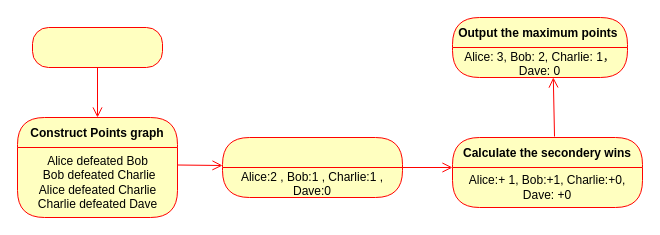
Some shapes in this 660 by 235 pixel diagram are drawn without their labels. The shapes that lost their labels are listed below. From the top down, each one's box as (x1, y1, x2, y2) in pixels, then its label:
(32, 26, 162, 68): Read game result through CVS module
(222, 136, 402, 198): Calculate the Primary wins
